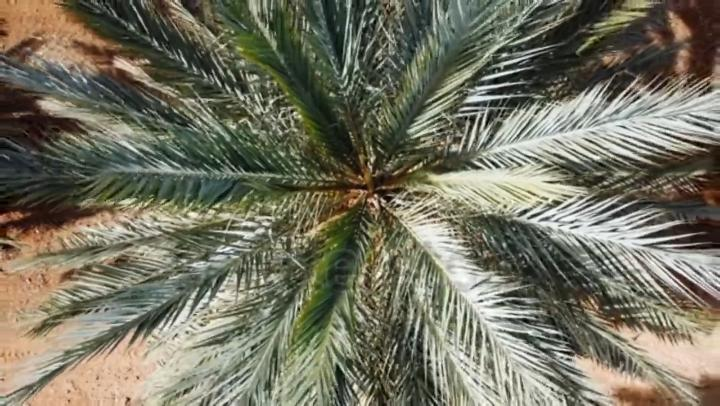Date-Palm-Crown: (228, 41, 512, 330)
